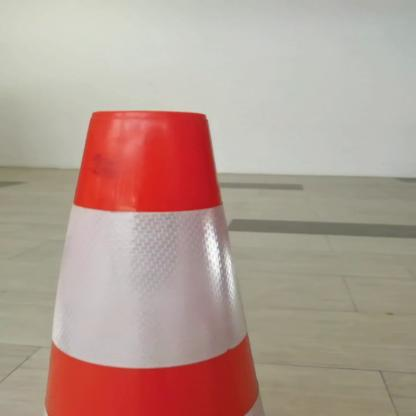cone: (35, 101, 266, 416)
